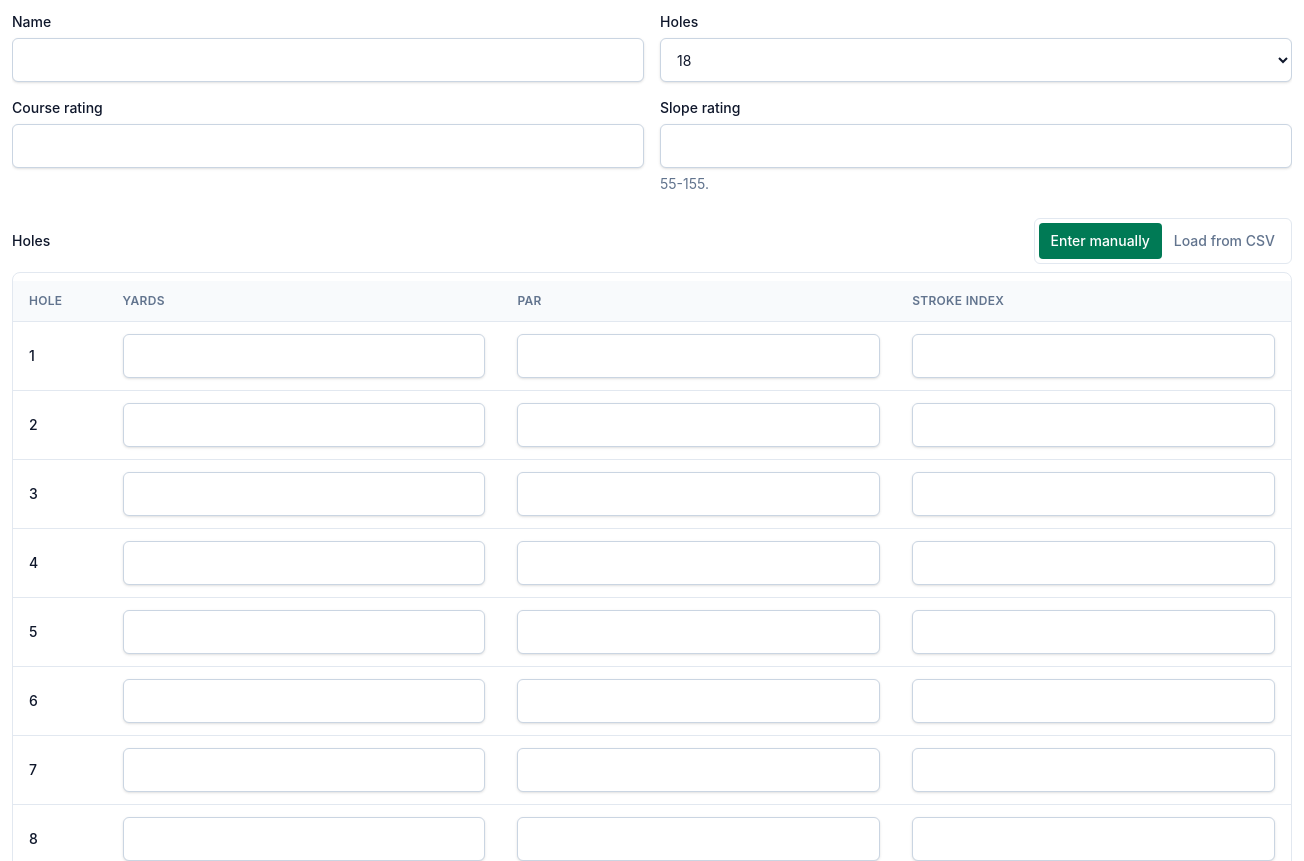
Test: TeeConfigurationForm › Load from CSV (holes only) › shows a CSV file input alongside the (still-present) manual holes table once 'Load from CSV' is selected
Click the radio button labelled "Load from CSV" at (1224, 240), box [1174, 232, 1275, 249]
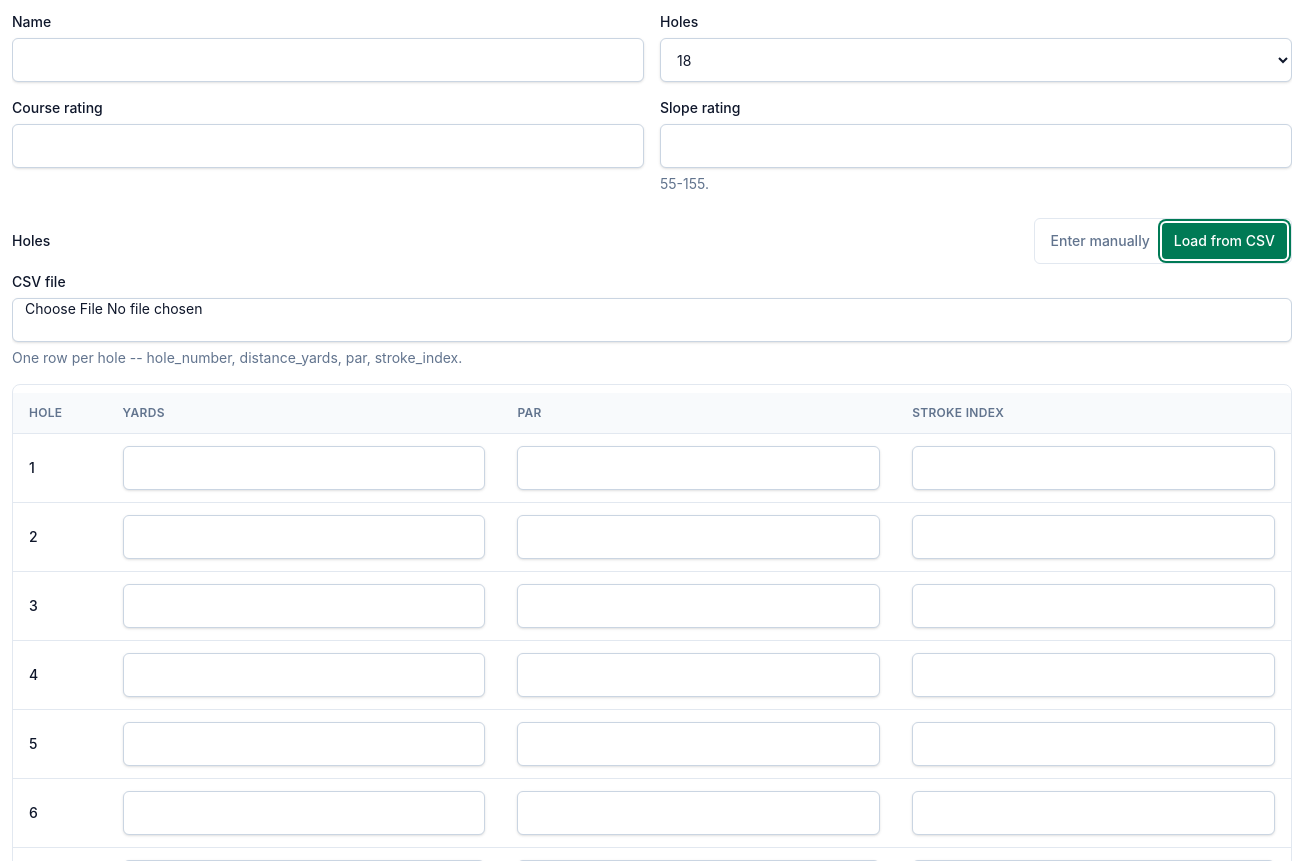
Expected: the number field named "Hole 1 distance in yards" is shown, [123, 446, 485, 490]
Result: the file field labelled "CSV file" is shown at [12, 298, 1292, 342]
